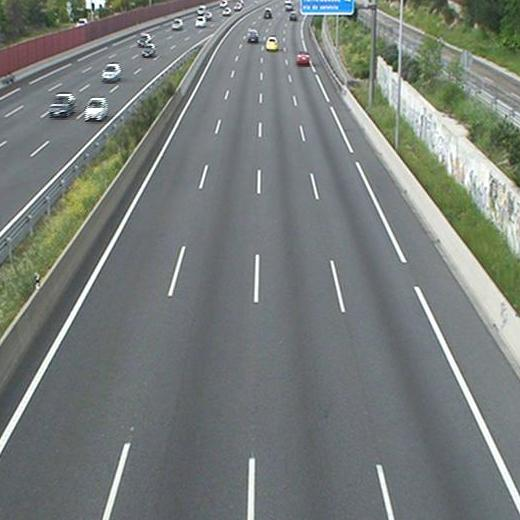car: (295, 51, 310, 66), (247, 29, 259, 44), (266, 37, 278, 51)
